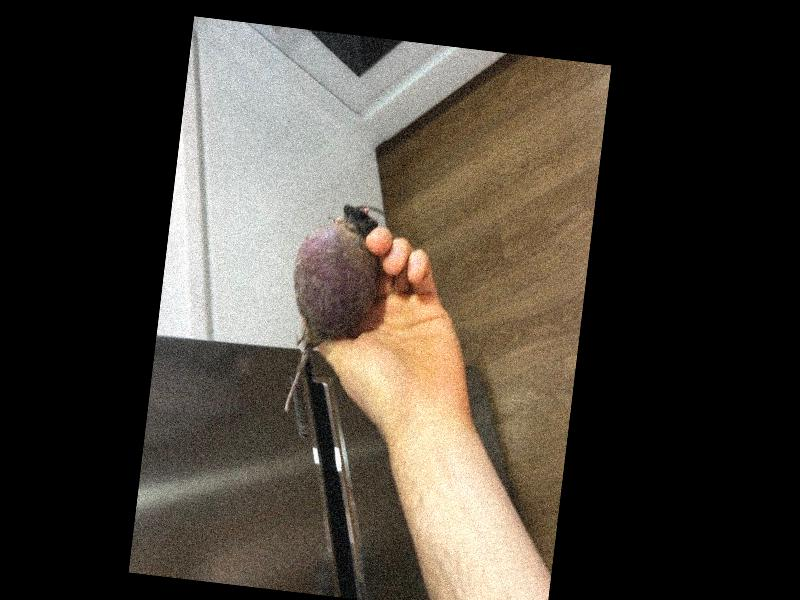Beet: (277, 197, 386, 419)
